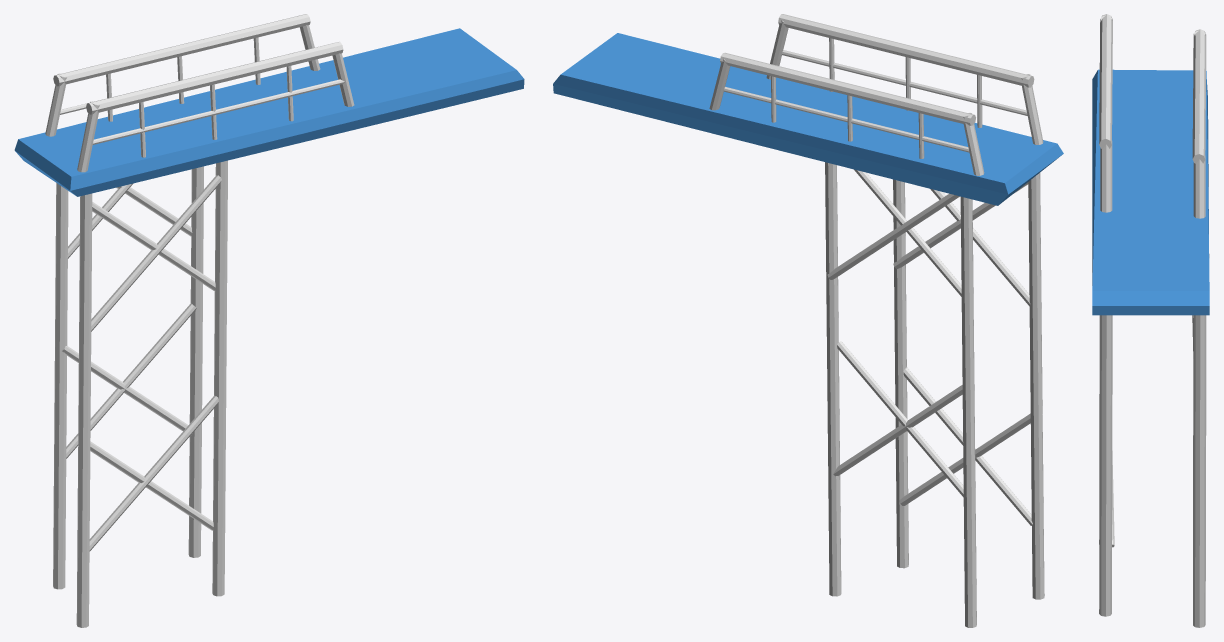
Rendered from stage_diver.fbx.
The picture shows the model from 3 angles, left to right: view 1: azimuth 30°, elevation 25°; view 2: azimuth 150°, elevation 25°; view 3: azimuth 270°, elevation 25°; orthographic projection. The views are drawn at different scales.
Visible parts, largest first — view 1: polySurface29; view 2: polySurface29; view 3: polySurface29.
Part boxes in pixels (bbox=[...]): polySurface29: bbox=[14, 14, 524, 627]; polySurface29: bbox=[553, 14, 1063, 627]; polySurface29: bbox=[1092, 14, 1209, 627].
Bounding box in the file's own units: 19.01 × 20.9 × 4.14.
